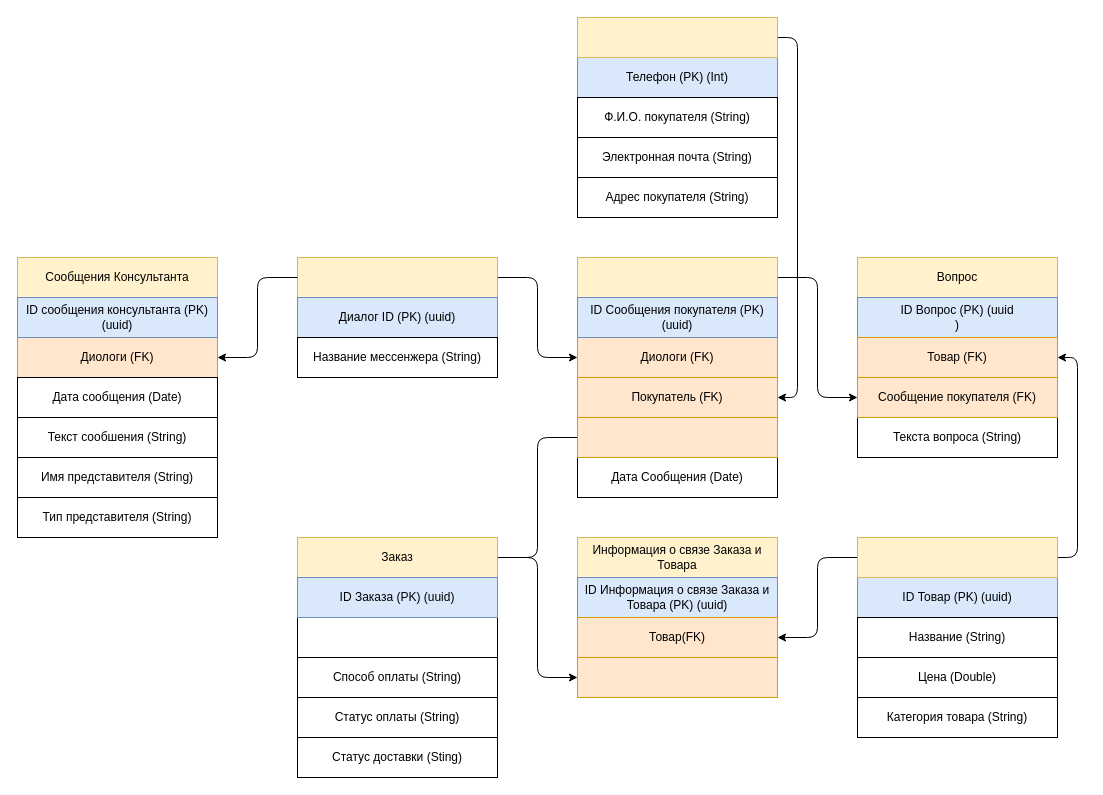
This 1103x795 diagram has some shape labels left out. Each missing label, with the centre of its shape:
Дата оплаты (Date): pixel 397 637
Диологи: pixel 397 277
Заказ (FK): pixel 677 437
Заказ(FK): pixel 677 677
Покупатель: pixel 677 37
Сообщения Покупателя: pixel 677 277
Товар: pixel 957 557
